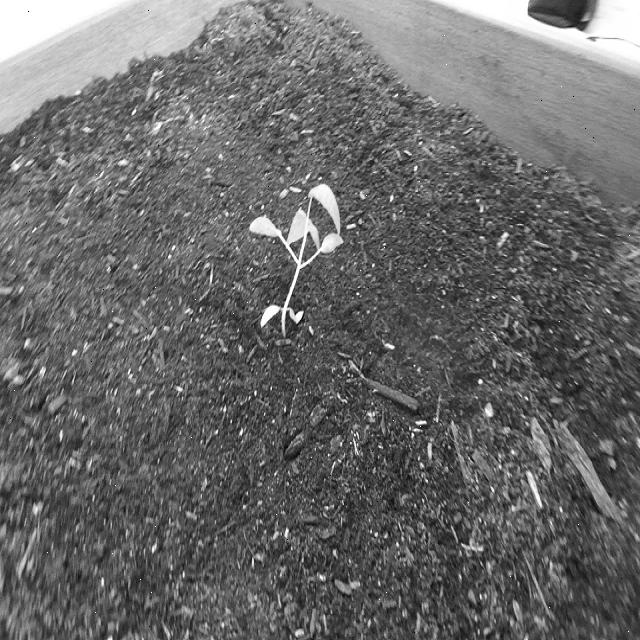Healthy: (243, 170, 350, 359)
